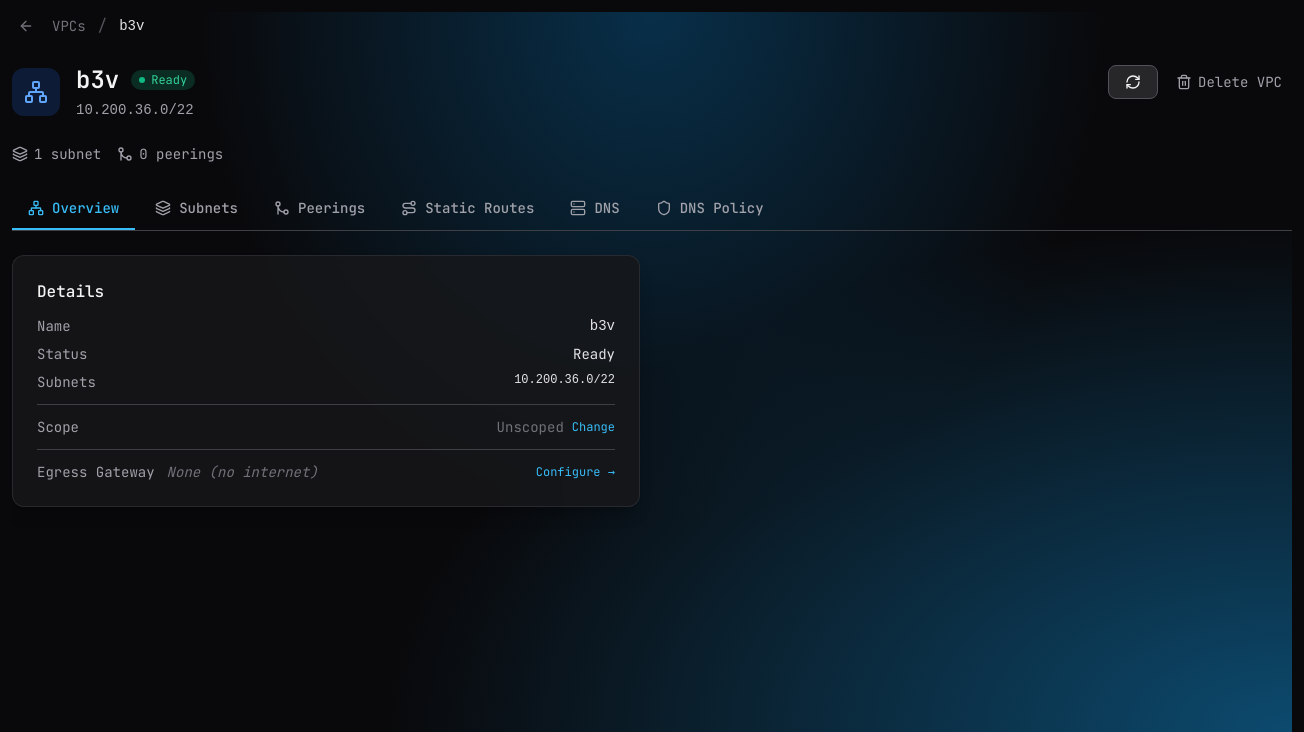
Test: the two peerings that would build cleanly and carry nothing › refuses overlapping prefixes and says what would happen
Step 1. Click the button "Peerings" → (320, 209), box [258,188,381,230]
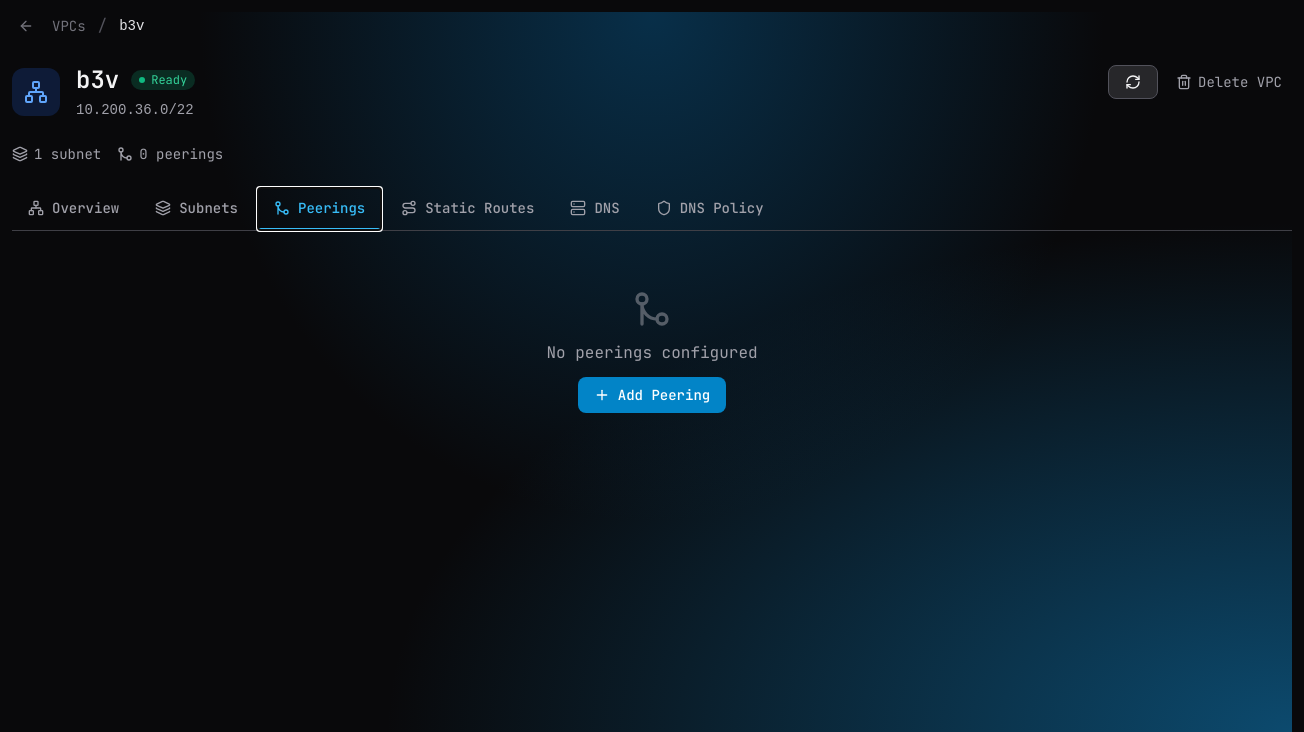
Step 2. Click the button "Add Peering" → (652, 395), box [578,377,726,413]
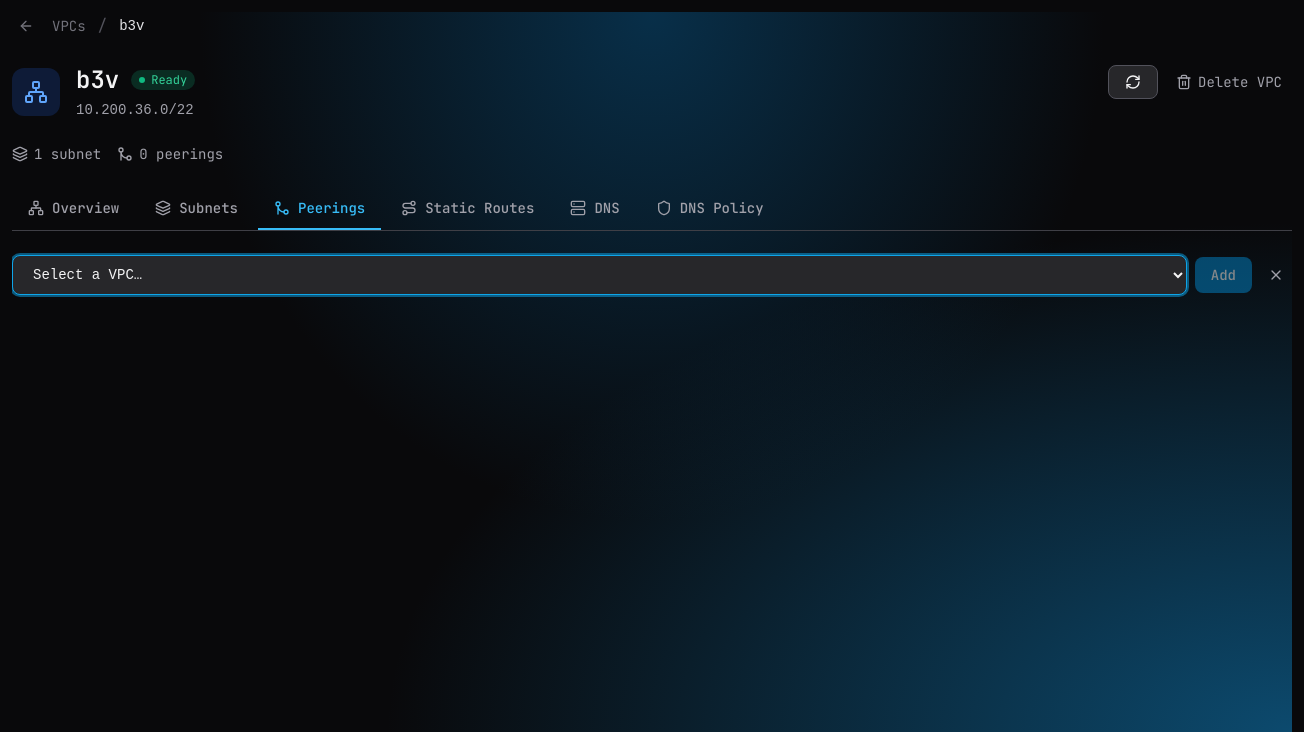
Step 3. Select "clash — 10.200.36.0/24" in the dropdown → (599, 275), box [12,255,1187,295]
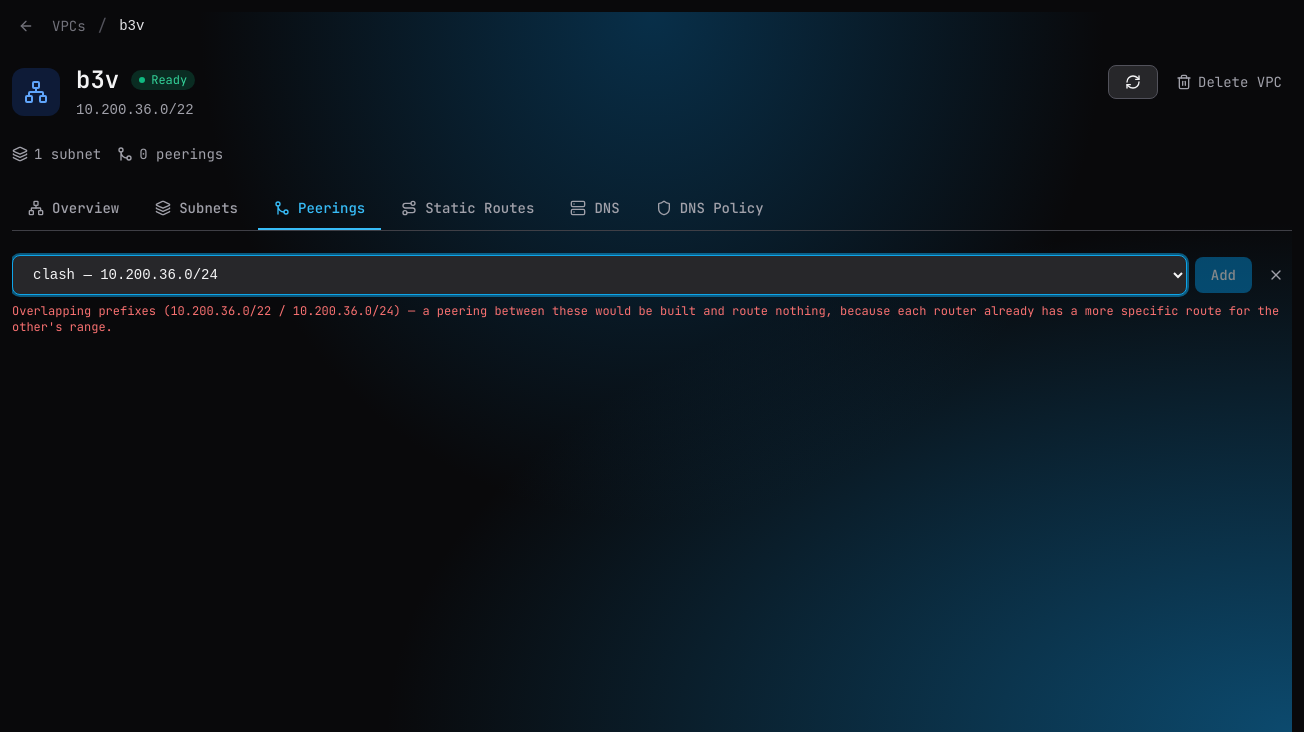
Result: the button "Add" is disabled at [1195,257,1252,293]
Result: the text "Overlapping prefixes" is shown at [12,303,170,319]
Result: the text "more specific route" is shown at [12,303,1279,335]
